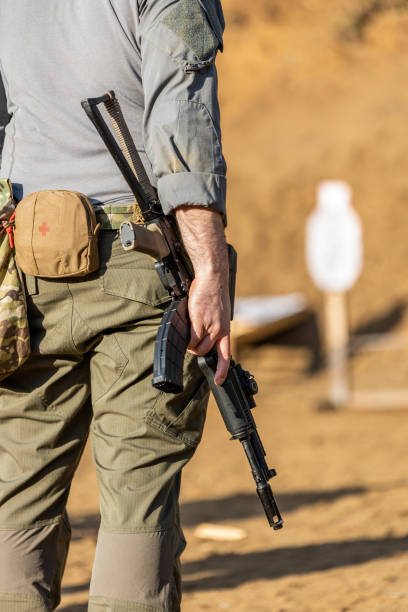terrorist: (122, 36, 408, 457)
